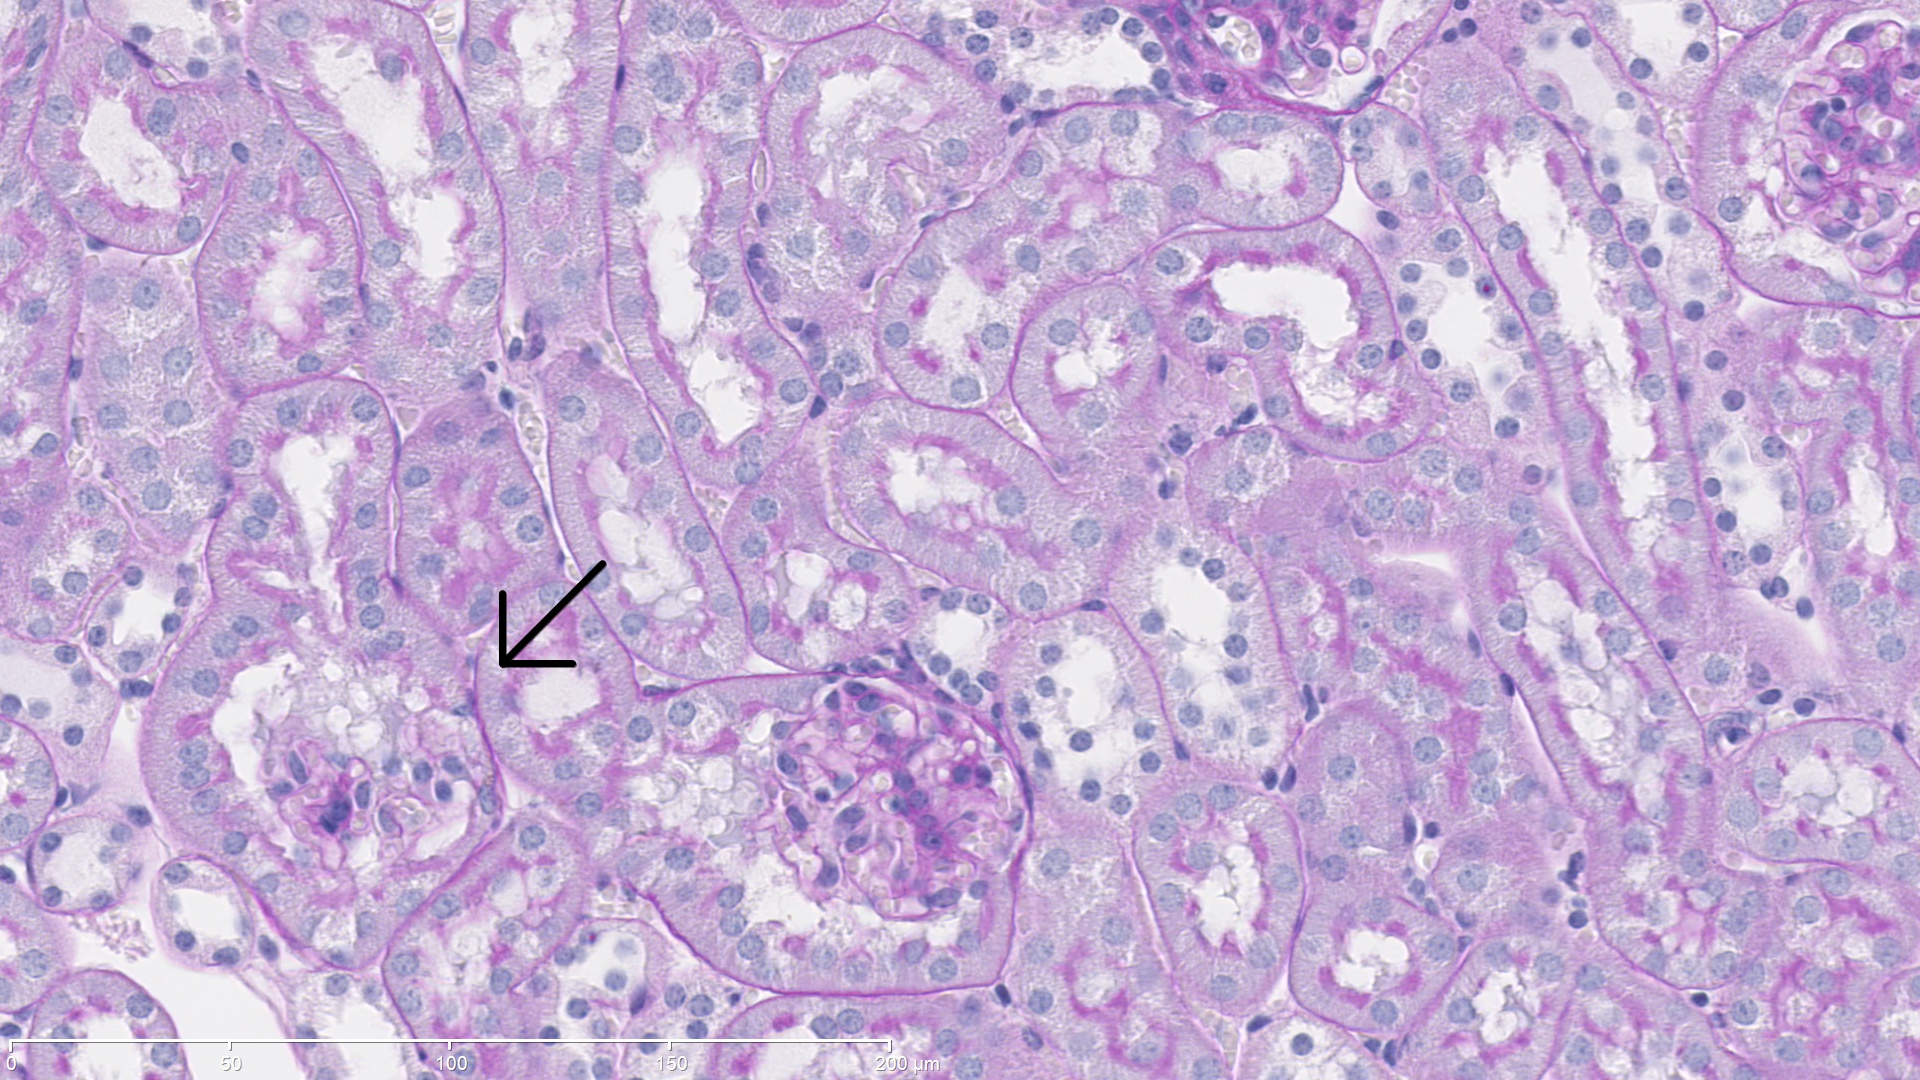Glomeruli: (775, 640, 1043, 934), (214, 649, 497, 914), (1745, 4, 1920, 315)
